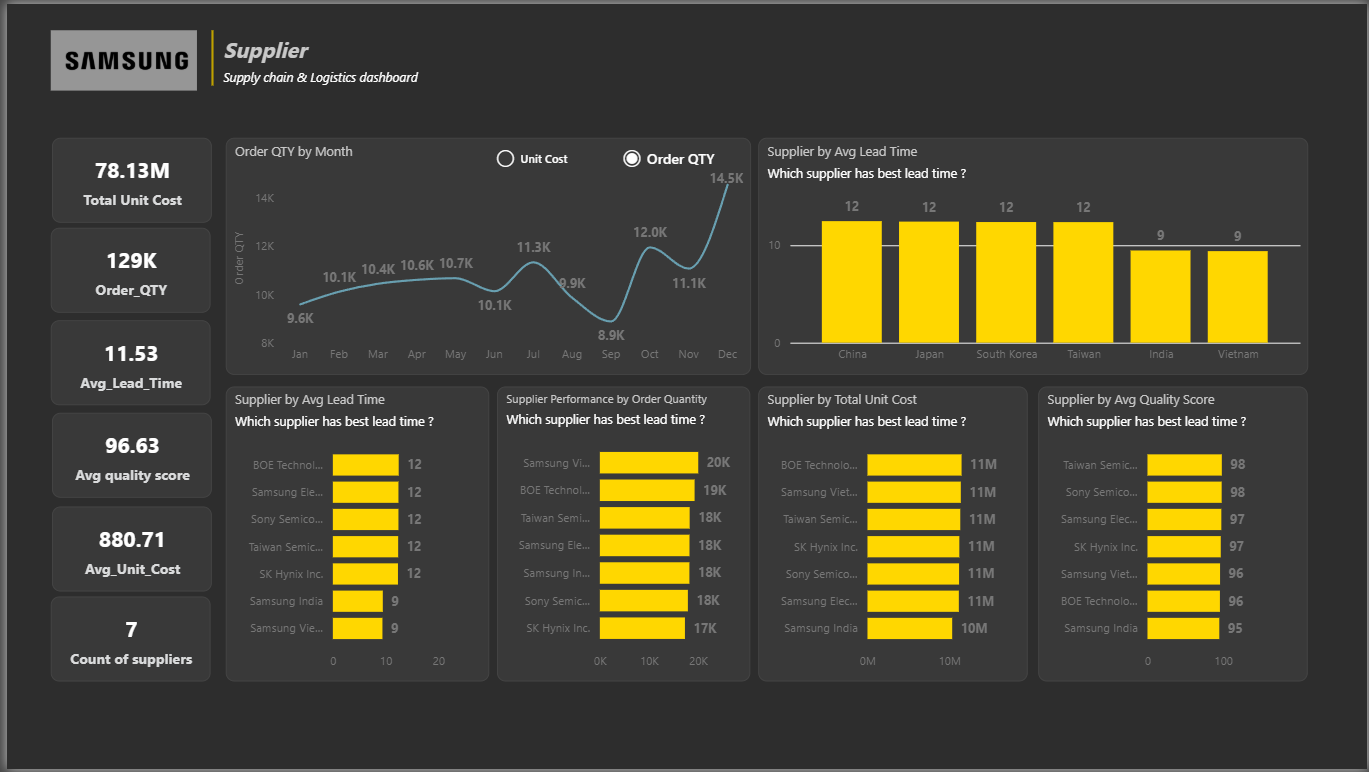

This screenshot's page, from the dashboard's own definition file:
{"tool":"powerbi","page":{"name":"Supplier","canvas":[1280,720],"ordinal":2},"visuals":[{"type":"lineChart","fields":{"Y":["MeasuresTable.Order_QTY"],"Category":["dim_date.Month_Short"]},"box":[205.8,125.8,494.2,223.3],"z":0,"group":"g1"},{"type":"shape","title":"Overview","box":[203.3,28.9,231.1,47.8],"z":0},{"type":"advancedSlicerVisual","fields":{"Values":["Cost_QTY_supplier.Cost_QTY_supplier"]},"box":[449.6,118.6,241.9,53.5],"z":1000,"group":"g1"},{"type":"shape","box":[181.1,24.4,24.4,52.2],"z":1000},{"type":"image","box":[41.1,24.4,137.8,56.7],"z":2000},{"type":"card","fields":{"Values":["MeasuresTable.Order_QTY"]},"box":[40.7,210.4,150,80],"z":3000},{"type":"card","fields":{"Values":["MeasuresTable.Avg_Lead_Time"]},"box":[40.7,297.1,150,80],"z":4000},{"type":"card","fields":{"Values":["fact_procurement.Avg_quality_score"]},"box":[42.9,384.9,150,80],"z":5000},{"type":"card","fields":{"Values":["fact_procurement.Avg_Unit_Cost"]},"box":[41.8,472.7,150,80],"z":6000},{"type":"card","fields":{"Values":["fact_procurement.Total_Unit_Cost"]},"box":[41.9,125.6,150,80.2],"z":7000},{"type":"card","fields":{"Values":["CountNonNull(dim_supplier.supplier_id)"]},"box":[40.7,558.1,150,80.2],"z":8000},{"type":"group","id":"g1","title":"Group 1","box":[205.8,118.6,494.2,230.2],"z":9000},{"type":"clusteredColumnChart","title":"Supplier by Avg Lead Time","fields":{"Y":["MeasuresTable.Avg_Lead_Time"],"Category":["dim_supplier.country"]},"box":[707,125.6,517.4,223.3],"z":10000},{"type":"clusteredBarChart","title":"Supplier by Avg Lead Time","fields":{"Category":["dim_supplier.supplier_name"],"Y":["fact_procurement.Total_Unit_Cost"]},"box":[707,360.5,253.5,277.9],"z":11000},{"type":"clusteredBarChart","title":"Supplier by Avg Lead Time","fields":{"Category":["dim_supplier.supplier_name"],"Y":["MeasuresTable.Order_QTY"]},"box":[461.6,360.5,238.4,277.9],"z":12000},{"type":"clusteredBarChart","title":"Supplier by Avg Lead Time","fields":{"Category":["dim_supplier.supplier_name"],"Y":["MeasuresTable.Avg_Lead_Time"]},"box":[205.8,360.5,247.7,277.9],"z":13000},{"type":"clusteredBarChart","title":"Supplier by Avg Lead Time","fields":{"Category":["dim_supplier.supplier_name"],"Y":["fact_procurement.Avg_quality_score"]},"box":[970.9,360.5,253.5,277.9],"z":14000}]}

Visuals, with their boxes in screenshot pixels (x1, y1, x2, y2), scaled from the page's 1280x720 canvas onto the 1369x772 screenshot:
lineChart - MeasuresTable.Order_QTY x dim_date.Month_Short: box=[220, 135, 749, 374]
"Overview" shape: box=[217, 31, 465, 82]
advancedSlicerVisual - Cost_QTY_supplier.Cost_QTY_supplier: box=[481, 127, 740, 185]
shape: box=[194, 26, 220, 82]
image: box=[44, 26, 191, 87]
card - MeasuresTable.Order_QTY: box=[44, 226, 204, 311]
card - MeasuresTable.Avg_Lead_Time: box=[44, 319, 204, 404]
card - fact_procurement.Avg_quality_score: box=[46, 413, 206, 498]
card - fact_procurement.Avg_Unit_Cost: box=[45, 507, 205, 593]
card - fact_procurement.Total_Unit_Cost: box=[45, 135, 205, 221]
card - CountNonNull(dim_supplier.supplier_id): box=[44, 598, 204, 684]
"Group 1" group: box=[220, 127, 749, 374]
"Supplier by Avg Lead Time" clusteredColumnChart: box=[756, 135, 1310, 374]
"Supplier by Avg Lead Time" clusteredBarChart: box=[756, 387, 1027, 685]
"Supplier by Avg Lead Time" clusteredBarChart: box=[494, 387, 749, 685]
"Supplier by Avg Lead Time" clusteredBarChart: box=[220, 387, 485, 685]
"Supplier by Avg Lead Time" clusteredBarChart: box=[1038, 387, 1310, 685]
